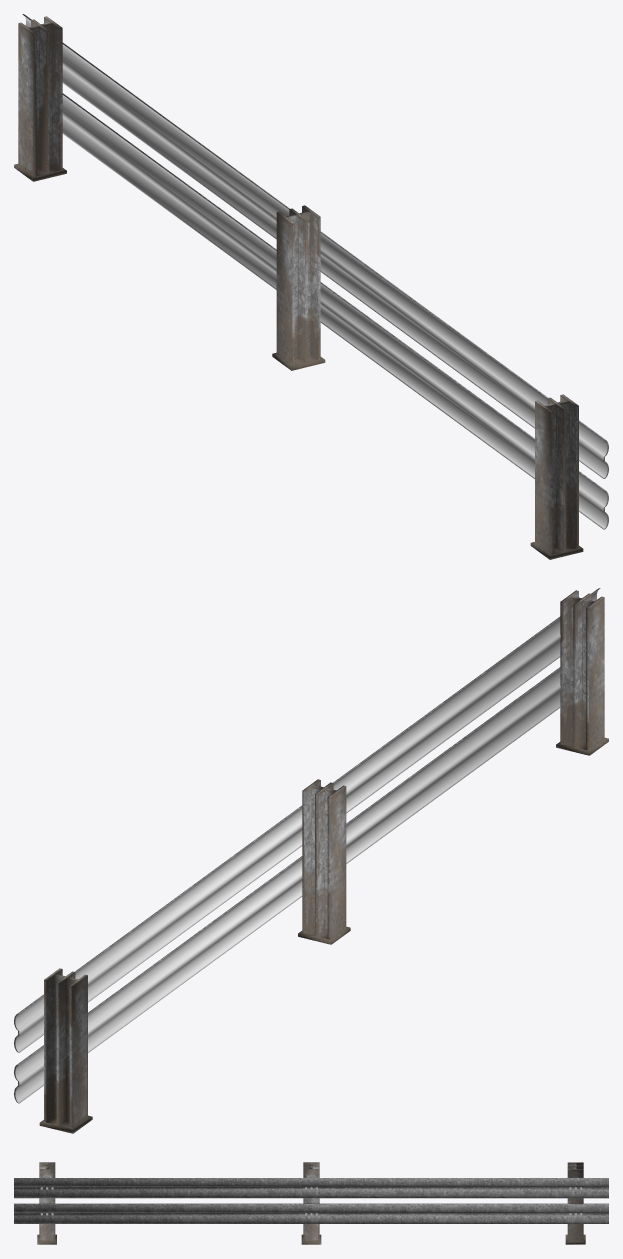
File: Bankina.fbx
3 renders of one model, top to bottom at view 1: azimuth 30°, elevation 25°; view 2: azimuth 150°, elevation 25°; view 3: azimuth 270°, elevation 25°, orthographic. The views are drawn at different scales.
Parts seen in each view (by area): view 1: Ograda, Stubovi; view 2: Ograda, Stubovi; view 3: Ograda, Stubovi, Srafovi.
Part boxes in pixels (x1,y1,x2,y2): Ograda: (22, 14, 608, 529); Stubovi: (14, 16, 583, 559); Ograda: (14, 588, 600, 1103); Stubovi: (39, 590, 608, 1133); Ograda: (14, 1178, 608, 1223); Stubovi: (37, 1162, 585, 1244); Srafovi: (40, 1187, 582, 1215).
Size of the model in its own units: 32.48 by 124 by 901.
